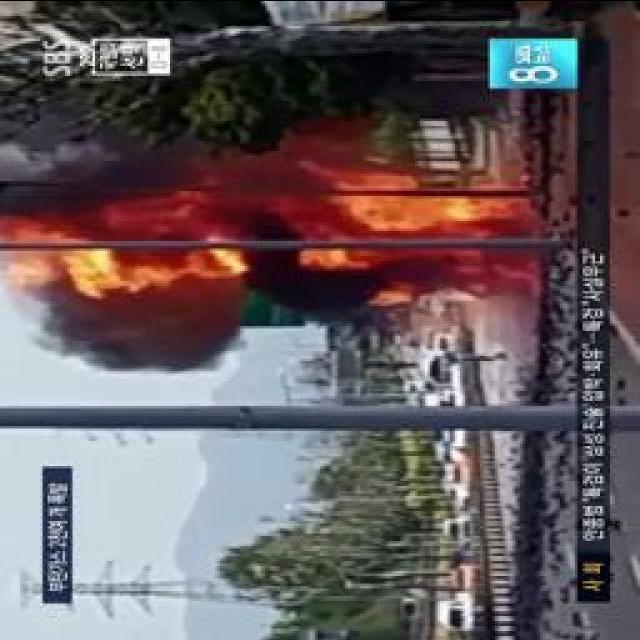Fire: (282, 162, 530, 267), (31, 193, 234, 295)
